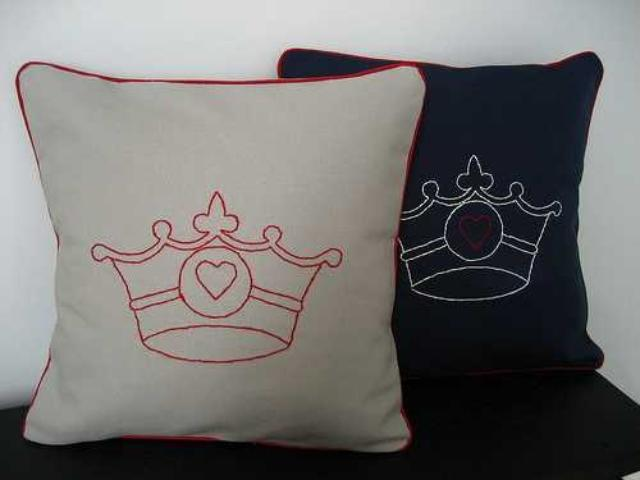pillow: (13, 58, 427, 452), (277, 45, 605, 379)
